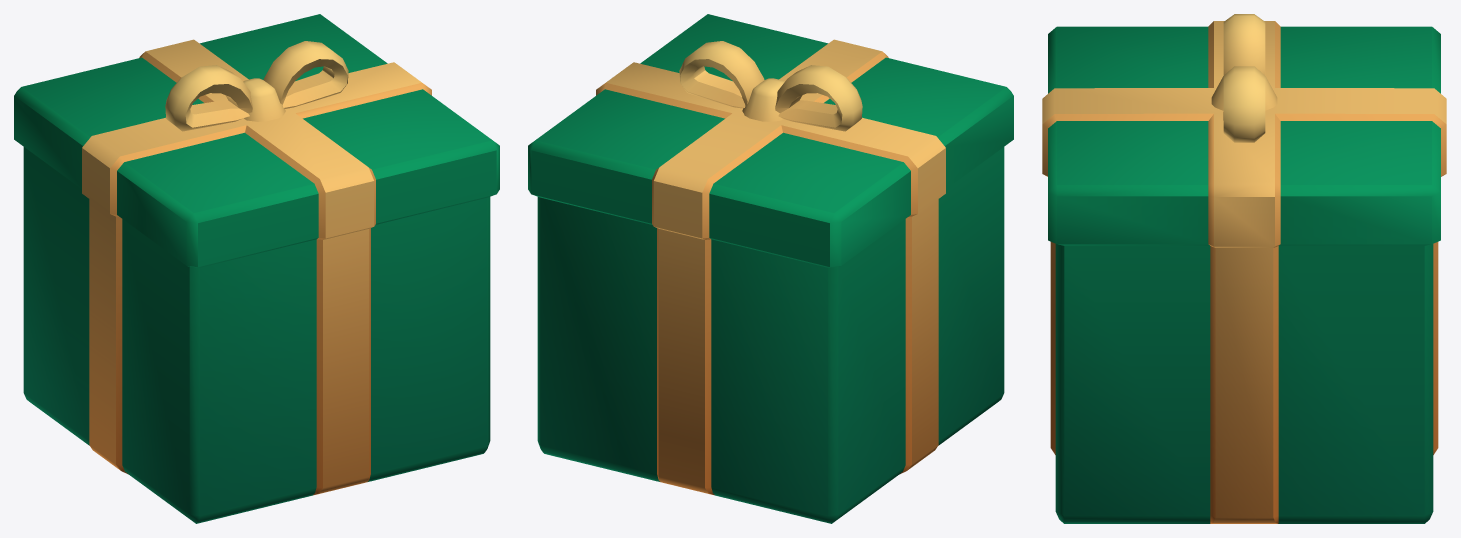
File: present_D_green.glb
The picture shows the model from 3 angles, left to right: view 1: azimuth 30°, elevation 25°; view 2: azimuth 150°, elevation 25°; view 3: azimuth 270°, elevation 25°; orthographic projection. The views are drawn at different scales.
Visible parts, largest first — view 1: present_D_green; view 2: present_D_green; view 3: present_D_green.
Part boxes in pixels (bbox=[...]): present_D_green: bbox=[14, 14, 499, 523]; present_D_green: bbox=[528, 14, 1013, 523]; present_D_green: bbox=[1042, 14, 1446, 523].
Bounding box in the file's own units: 0.9638 × 1.06 × 0.9638.
Materials: 1 (1 with a texture image).
